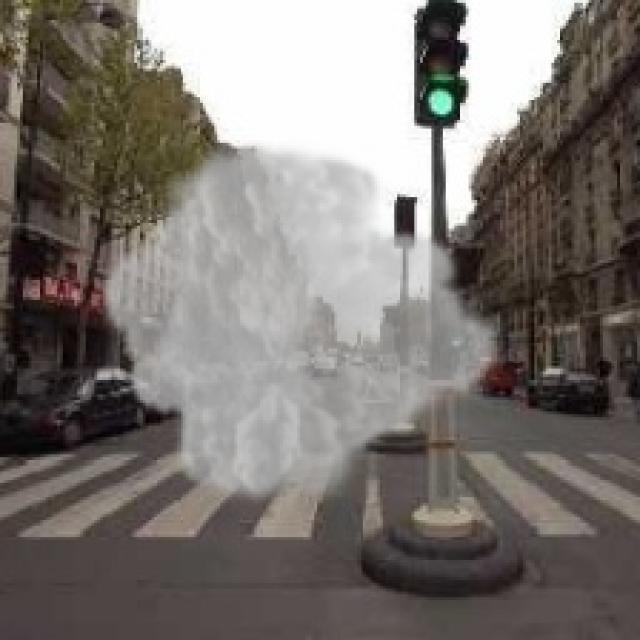Smoke: (97, 134, 509, 512)
